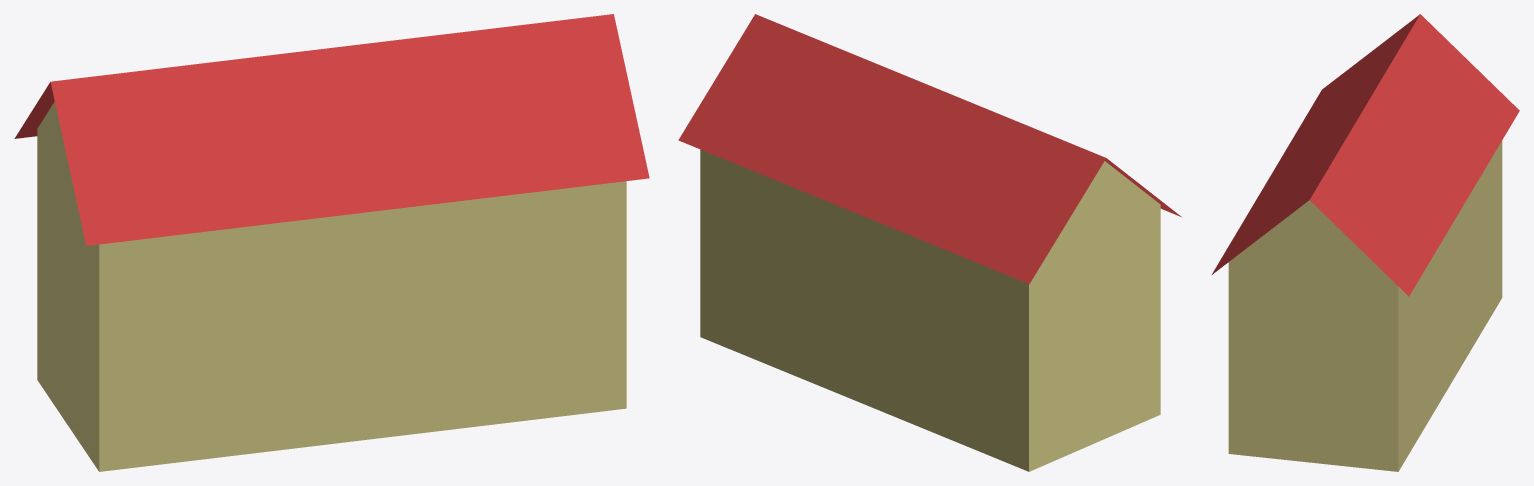
The picture shows the model from 3 angles, left to right: view 1: azimuth 30°, elevation 25°; view 2: azimuth 150°, elevation 25°; view 3: azimuth 270°, elevation 25°; orthographic projection. The views are drawn at different scales.
Parts seen in each view (by area): view 1: group_5, group_3, group_4; view 2: group_5, group_3, group_4; view 3: group_5, group_3, group_4.
Boxes of the visible parts, x1,y1,x2,y2 form: group_5: [37, 101, 626, 471]; group_3: [14, 14, 649, 245]; group_4: [49, 14, 613, 136]; group_5: [700, 149, 1160, 471]; group_3: [700, 14, 1120, 280]; group_4: [678, 15, 1181, 284]; group_5: [1228, 140, 1502, 471]; group_3: [1211, 14, 1501, 276]; group_4: [1304, 14, 1519, 296].
Size of the model in its own units: 25.26 by 15.92 by 15.29.
